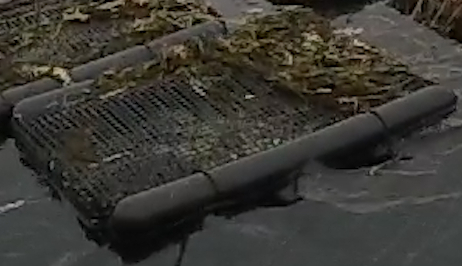bag: (13, 4, 458, 237)
